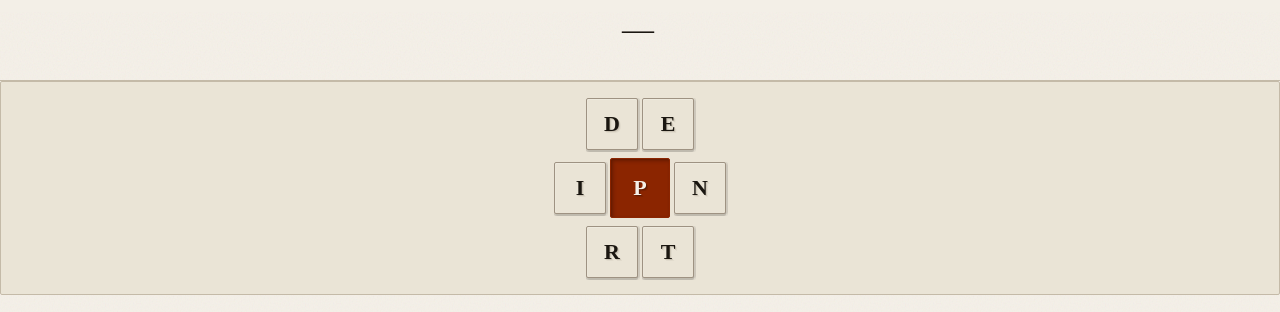
LetterGrid tile click › clicking Letter D appends d to current word
Click the button named "Letter D" at (612, 124), box [586,98,638,150]
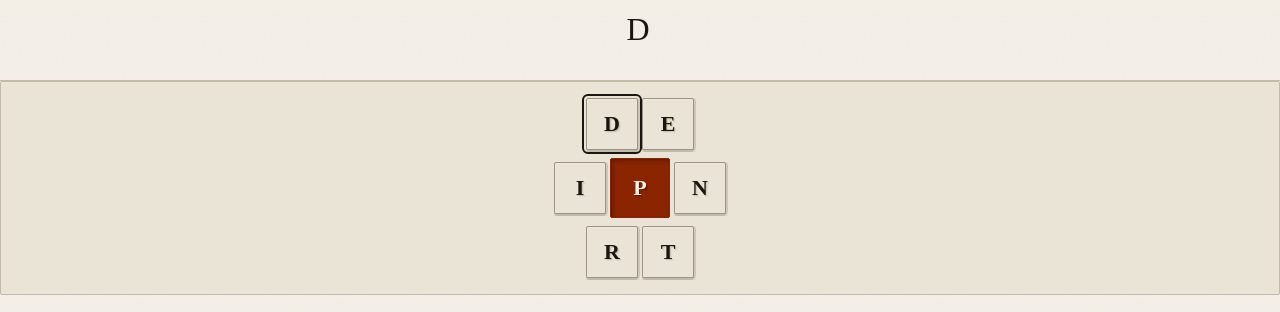
expect the text with test id "word-display" reads "D": met, box [626,11,654,47]
